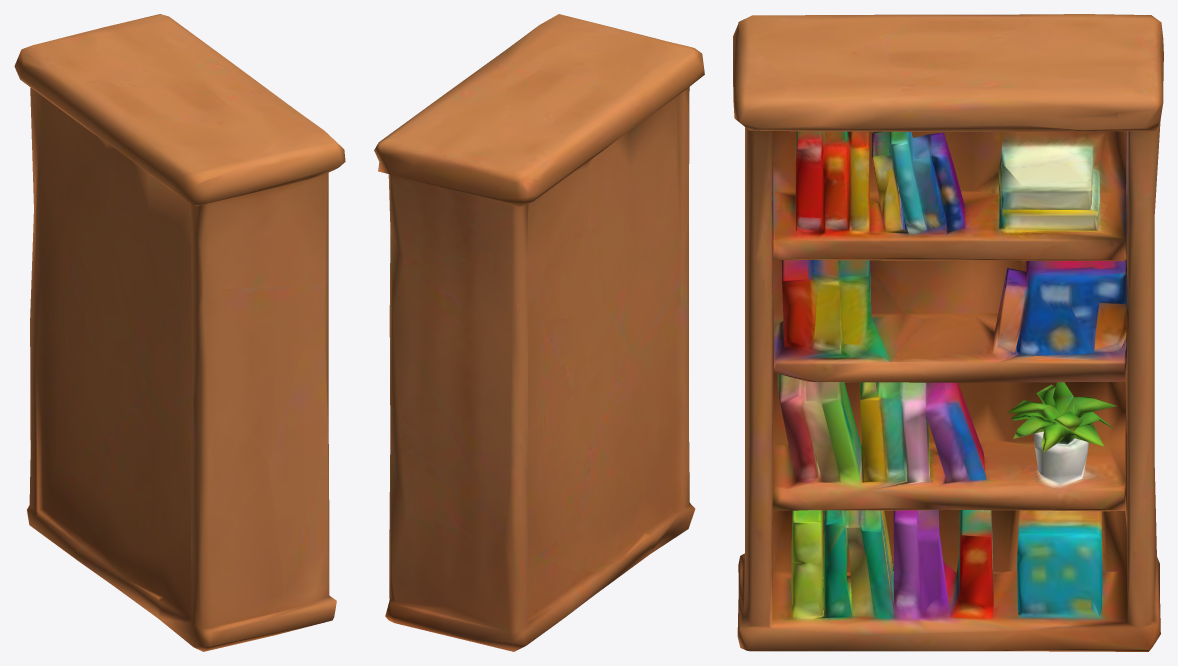
File: bookshelf.glb
The picture shows the model from 3 angles, left to right: view 1: azimuth 30°, elevation 25°; view 2: azimuth 150°, elevation 25°; view 3: azimuth 270°, elevation 25°; orthographic projection. The views are drawn at different scales.
Visible parts, largest first — view 1: tripo_node_ae950d1e-e842-4c7c-b55d-4fa31fb2770b; view 2: tripo_node_ae950d1e-e842-4c7c-b55d-4fa31fb2770b; view 3: tripo_node_ae950d1e-e842-4c7c-b55d-4fa31fb2770b.
Part boxes in pixels (x1,y1,x2,y2): tripo_node_ae950d1e-e842-4c7c-b55d-4fa31fb2770b: (14, 14, 345, 651); tripo_node_ae950d1e-e842-4c7c-b55d-4fa31fb2770b: (374, 14, 704, 651); tripo_node_ae950d1e-e842-4c7c-b55d-4fa31fb2770b: (733, 14, 1163, 651).
Size of the model in its own units: 0.3409 by 1 by 0.6943.
1 material, 1 textured.
